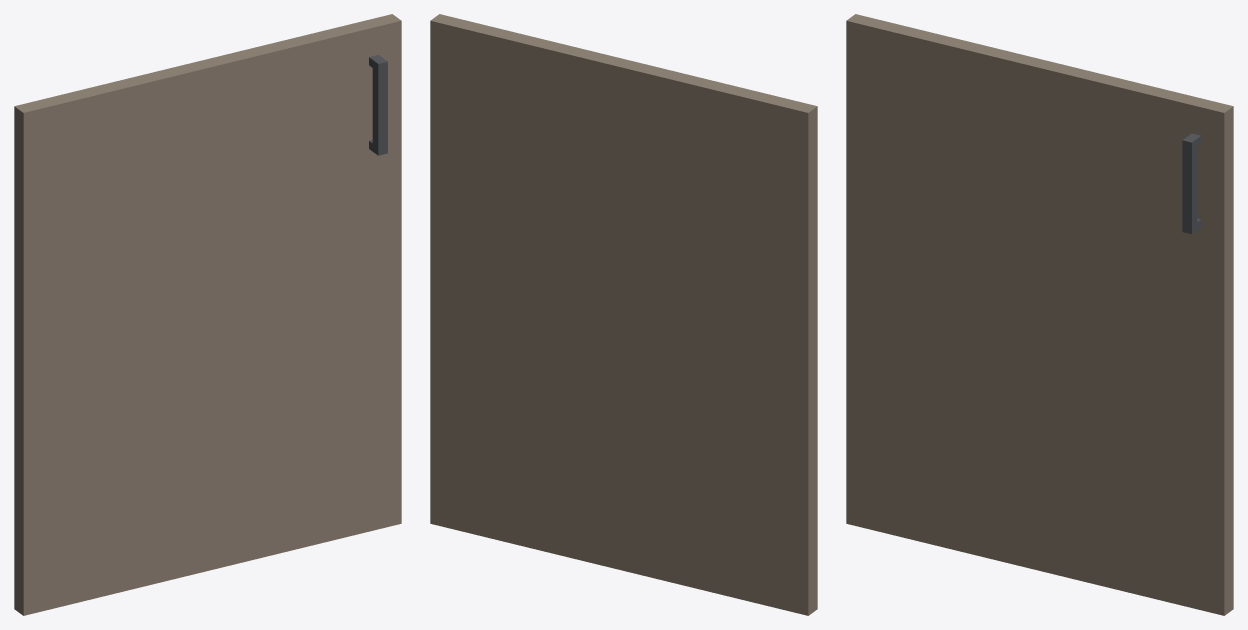
Rendered from Door1_C5_02.fbx.
The picture shows the model from 3 angles, left to right: view 1: azimuth 30°, elevation 25°; view 2: azimuth 150°, elevation 25°; view 3: azimuth 330°, elevation 25°; orthographic projection.
Parts seen in each view (by area): view 1: Door1_C5_02; view 2: Door1_C5_02; view 3: Door1_C5_02.
Part boxes in pixels (x1,y1,x2,y2): Door1_C5_02: (14,14,401,615); Door1_C5_02: (430,14,817,615); Door1_C5_02: (846,14,1233,615).
Bounding box in the file's own units: 59 × 75 × 5.03.
